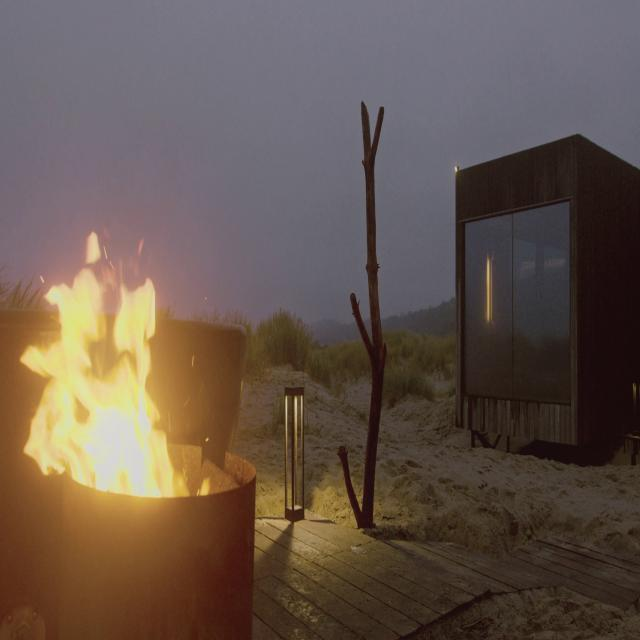Fire: (21, 219, 209, 502)
